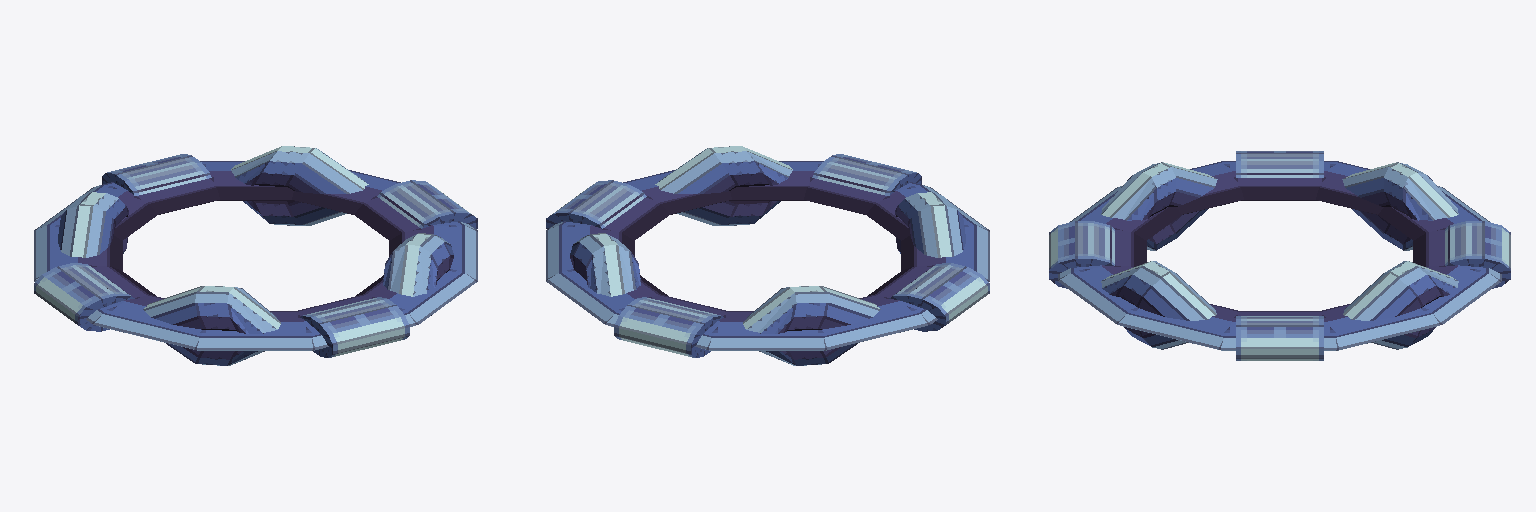
3 renders of one model, left to right at view 1: azimuth 30°, elevation 25°; view 2: azimuth 150°, elevation 25°; view 3: azimuth 270°, elevation 25°, orthographic.
Visible parts, largest first — view 1: cylinder, torus; view 2: cylinder, torus; view 3: cylinder, torus.
Part boxes in pixels (left/top/right/bottom): cylinder: left=34, top=146, right=477, bottom=365; torus: left=34, top=161, right=477, bottom=350; cylinder: left=546, top=146, right=989, bottom=365; torus: left=546, top=161, right=989, bottom=350; cylinder: left=1049, top=151, right=1510, bottom=360; torus: left=1058, top=161, right=1501, bottom=350.
Bounding box in the file's own units: 0.325 × 0.0574 × 0.325.
Materials: 1 (1 with a texture image).